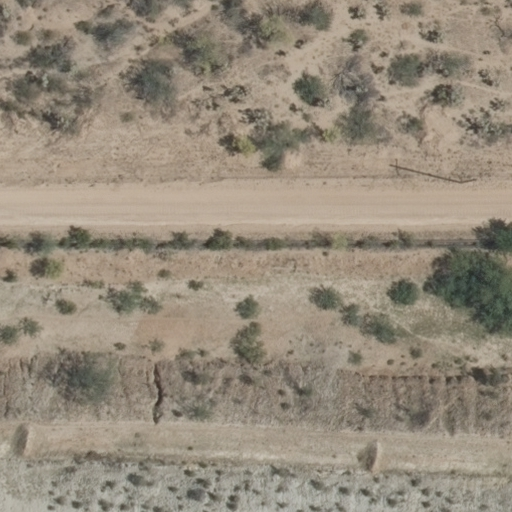DT: (454, 173, 482, 187)
